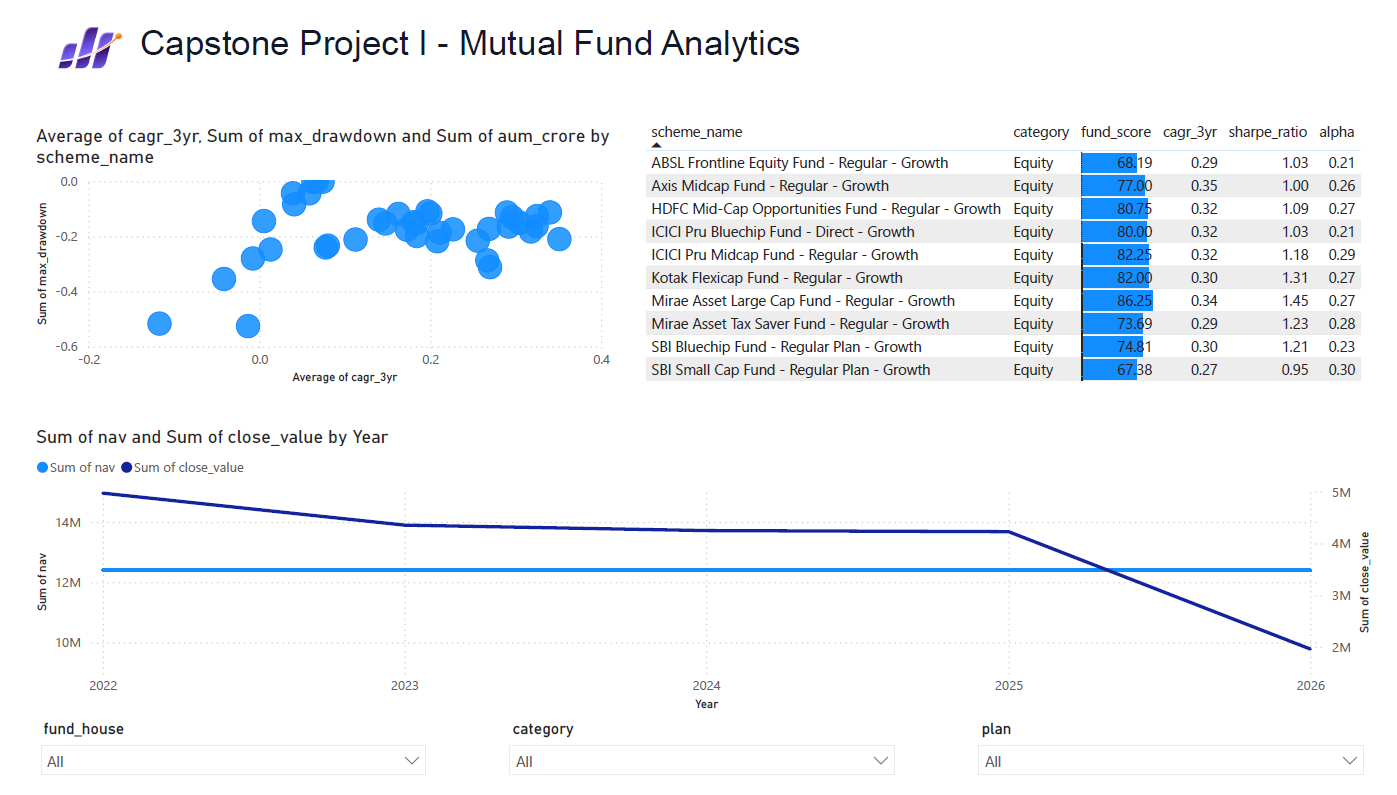

This screenshot's page, from the dashboard's own definition file:
{"tool":"powerbi","page":{"name":"Fund Performance","canvas":[1280,720],"ordinal":1},"visuals":[{"type":"slicer","fields":{"Values":["clean_fund_master.fund_house"]},"box":[27.5,649.1,372.7,60.5],"z":0},{"type":"slicer","fields":{"Values":["clean_fund_master.category"]},"box":[456.6,649.1,372.7,60.5],"z":1000},{"type":"slicer","fields":{"Values":["clean_fund_master.plan"]},"box":[885.6,649.1,372.7,60.5],"z":2000},{"type":"scatterChart","fields":{"Size":["Sum(clean_aum_by_fund_house.aum_crore)"],"X":["Avg(fund_scorecard.cagr_3yr)"],"Y":["Sum(fund_scorecard.max_drawdown)"],"Category":["clean_fund_master.scheme_name"]},"box":[28.9,108.6,534.9,242],"z":3000},{"type":"tableEx","fields":{"Values":["fund_scorecard.scheme_name","fund_scorecard.category","fund_scorecard.fund_score","fund_scorecard.cagr_3yr","fund_scorecard.sharpe_ratio","fund_scorecard.alpha"]},"box":[585.8,100.4,694.5,250.3],"z":4000},{"type":"lineChart","fields":{"Category":["clean_benchmark_indices.date.Variation.Date Hierarchy.Year"],"Y":["Sum(clean_nav.nav)"],"Y2":["Sum(clean_benchmark_indices.close_value)"]},"box":[28.9,383.7,1230.8,265.4],"z":5000},{"type":"textbox","box":[123.8,11,668.3,56.4],"z":5001},{"type":"image","box":[0,0,166.4,77],"z":5002}]}

Visuals, with their boxes in screenshot pixels (x1, y1, x2, y2), scaled from the page's 1280x720 canvas onto the 1397x795 screenshot:
slicer - clean_fund_master.fund_house: crop(30, 717, 437, 784)
slicer - clean_fund_master.category: crop(498, 717, 905, 784)
slicer - clean_fund_master.plan: crop(967, 717, 1373, 784)
scatterChart - Sum(clean_aum_by_fund_house.aum_crore) x Avg(fund_scorecard.cagr_3yr): crop(32, 120, 615, 387)
tableEx - fund_scorecard.scheme_name x fund_scorecard.category: crop(639, 111, 1396, 387)
lineChart - clean_benchmark_indices.date.Variation.Date Hierarchy.Year x Sum(clean_nav.nav): crop(32, 424, 1375, 717)
textbox: crop(135, 12, 865, 74)
image: crop(0, 0, 182, 85)
